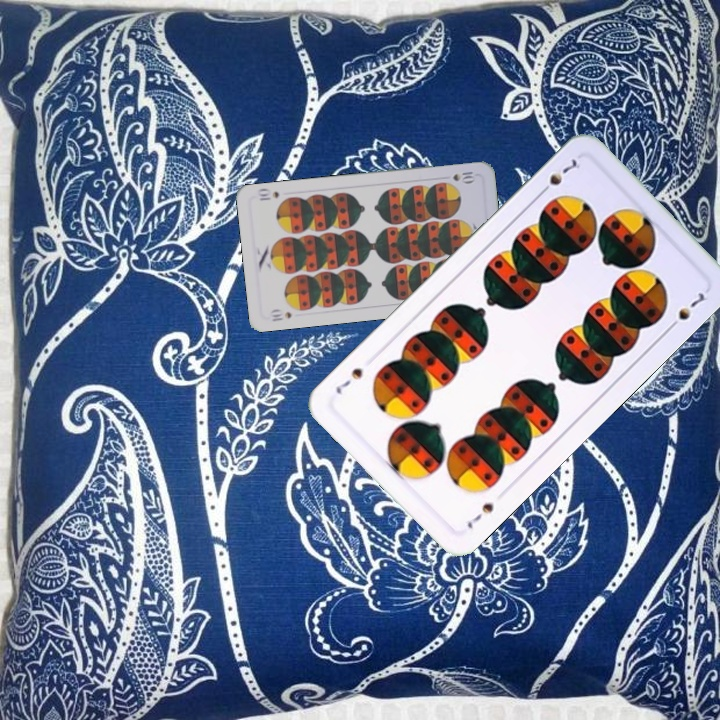S10: (449, 168, 476, 184), (268, 308, 294, 324)
S7: (535, 154, 583, 198), (463, 498, 497, 532)
